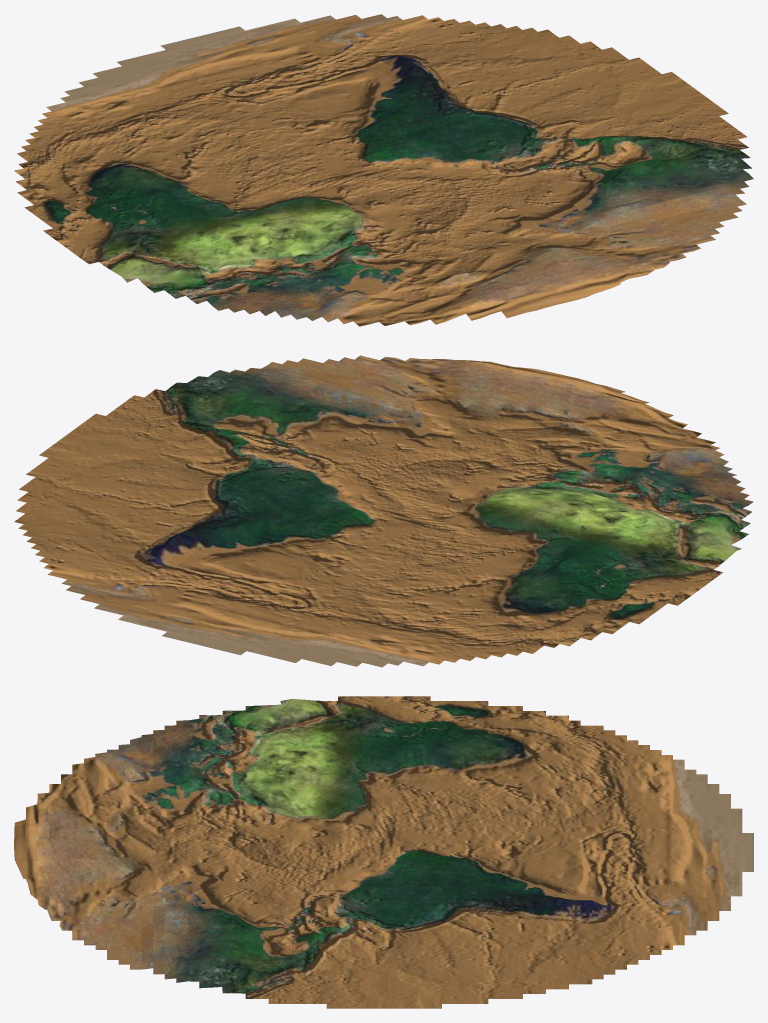
File: flatearth2.fbx
3 renders of one model, top to bottom at view 1: azimuth 30°, elevation 25°; view 2: azimuth 150°, elevation 25°; view 3: azimuth 270°, elevation 25°, orthographic.
Visible parts, largest first — view 1: FlatEarth; view 2: FlatEarth; view 3: FlatEarth.
Part boxes in pixels (bbox=[...]): FlatEarth: bbox=[14, 14, 753, 326]; FlatEarth: bbox=[14, 355, 753, 667]; FlatEarth: bbox=[14, 696, 753, 1008].
Bounding box in the file's own units: 4 × 0.0807 × 4.
1 material, 1 textured.
